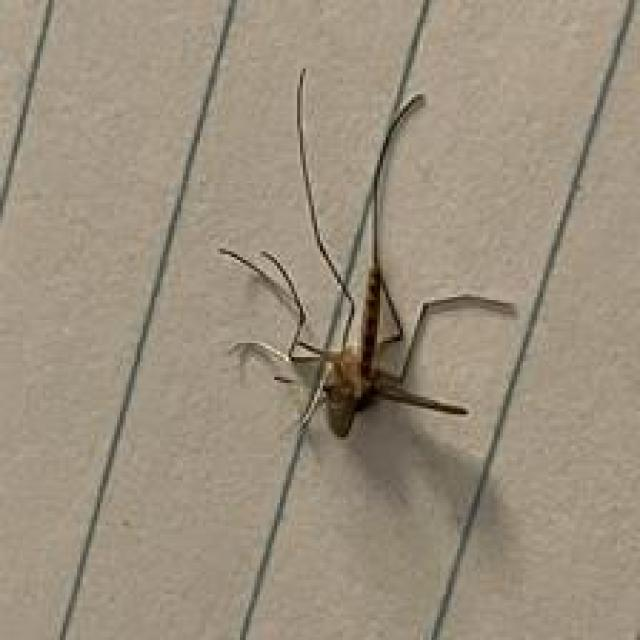Culex: (217, 66, 517, 443)
